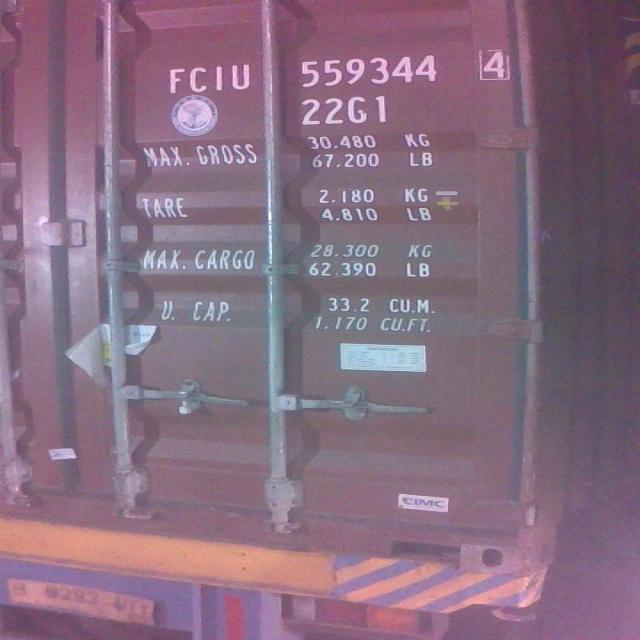seal: (174, 386, 203, 417)
